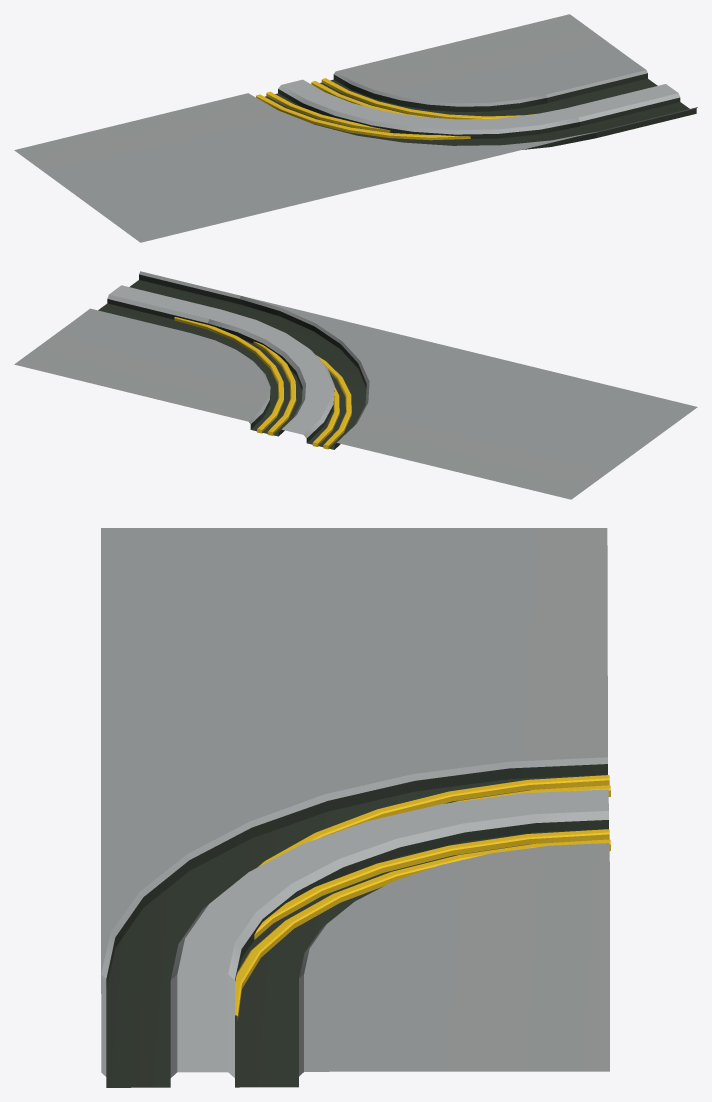
The model's file is Curved_Floor_Track.fbx.
3 renders of one model, top to bottom at view 1: azimuth 30°, elevation 25°; view 2: azimuth 150°, elevation 25°; view 3: azimuth 270°, elevation 25°, orthographic. The views are drawn at different scales.
Parts seen in each view (by area): view 1: Curved_Floor_track; view 2: Curved_Floor_track; view 3: Curved_Floor_track.
Part boxes in pixels (x1,y1,x2,y2): Curved_Floor_track: [14, 14, 697, 242]; Curved_Floor_track: [14, 271, 697, 499]; Curved_Floor_track: [101, 528, 610, 1087].
Size of the model in its own units: 1735 by 25.64 by 687.
